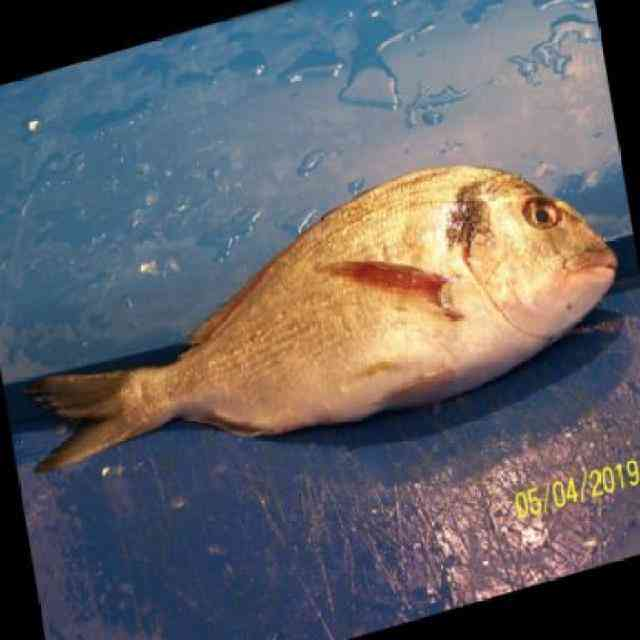Healthy Fish: (20, 161, 632, 471)
